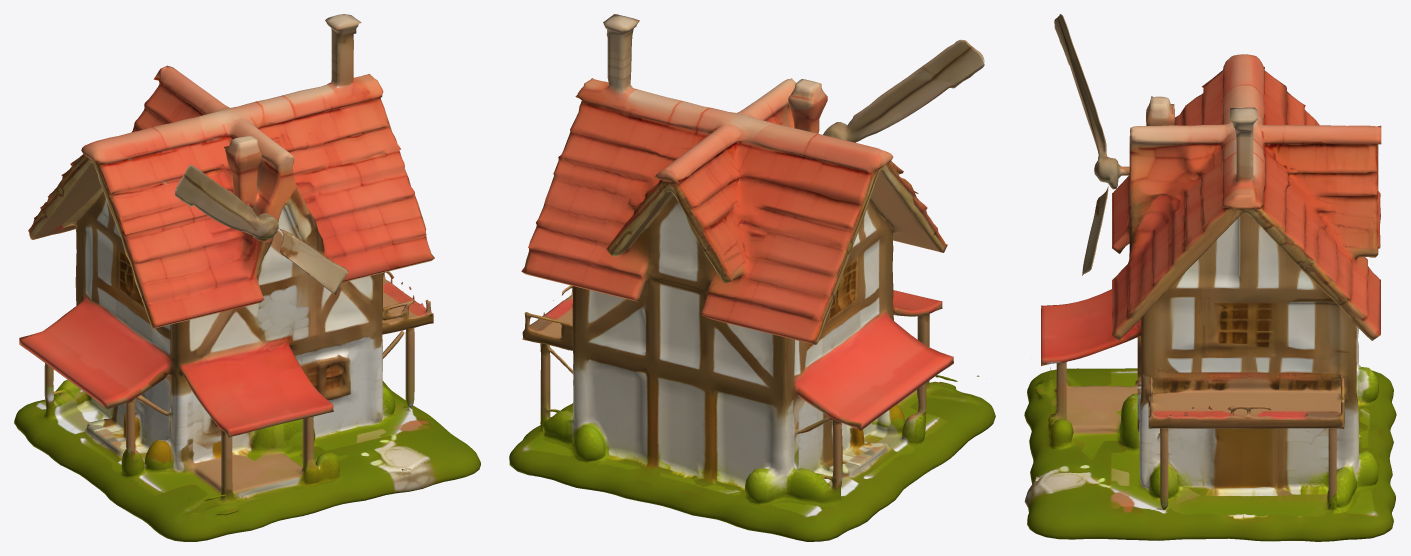
The model's file is clean-windmill.glb.
The picture shows the model from 3 angles, left to right: view 1: azimuth 30°, elevation 25°; view 2: azimuth 150°, elevation 25°; view 3: azimuth 270°, elevation 25°; orthographic projection. The views are drawn at different scales.
Visible parts, largest first — view 1: model; view 2: model; view 3: model.
Boxes of the visible parts, x1,y1,x2,y2 form: model: (14, 14, 480, 541); model: (509, 14, 995, 541); model: (1024, 14, 1396, 541).
Bounding box in the file's own units: 1.58 × 1.78 × 1.48.
1 material, 1 textured.
